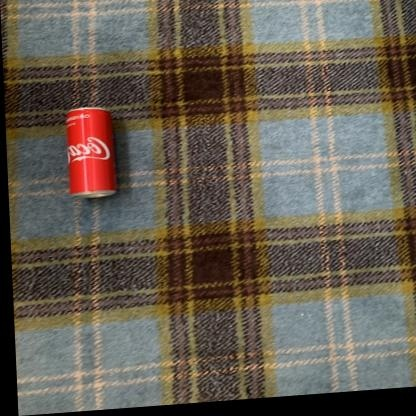trash: (66, 107, 115, 197)
